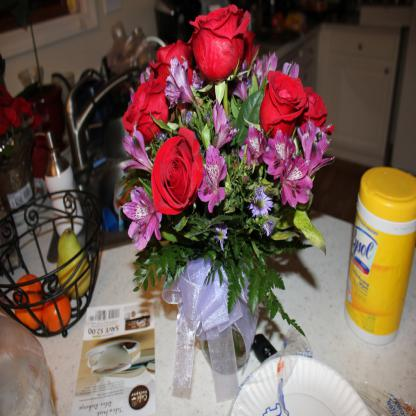vase: (198, 326, 246, 372)
